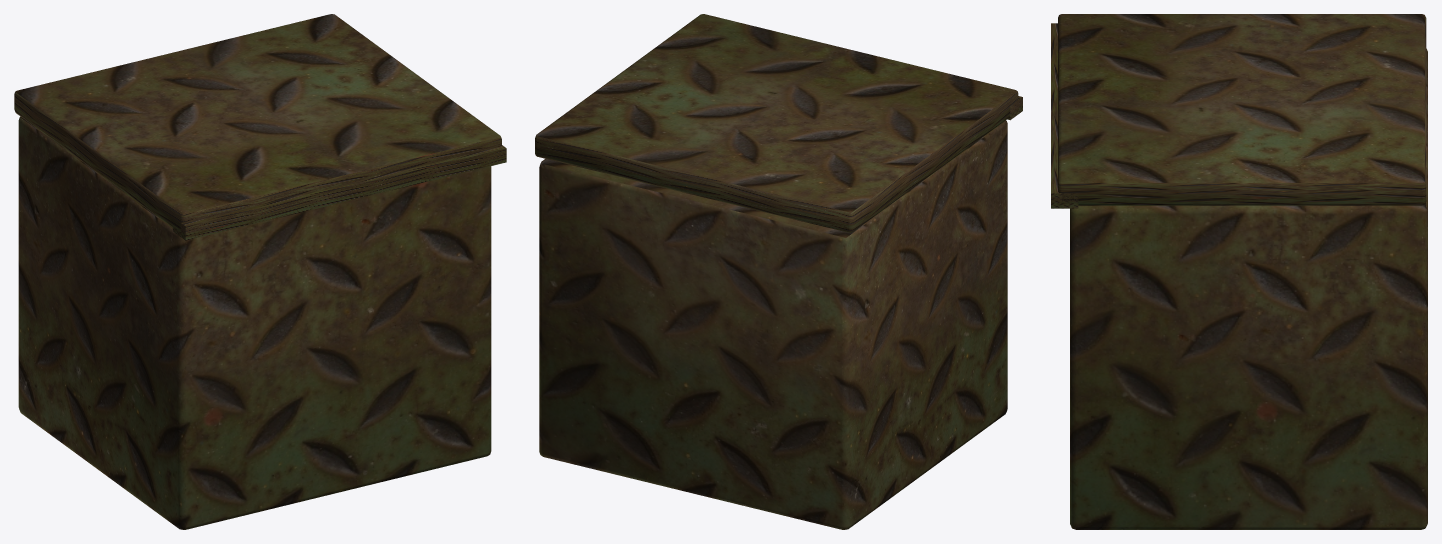
Rendered from dumpster.glb.
The picture shows the model from 3 angles, left to right: view 1: azimuth 30°, elevation 25°; view 2: azimuth 150°, elevation 25°; view 3: azimuth 270°, elevation 25°; orthographic projection. The views are drawn at different scales.
Visible parts, largest first — view 1: body, lid, lip; view 2: body, lid; view 3: body, lid, lip.
Part boxes in pixels (x1,y1,x2,y2): body: [18, 116, 491, 529]; lid: [14, 14, 501, 231]; lip: [173, 145, 506, 240]; body: [539, 120, 1007, 529]; lid: [535, 14, 1018, 232]; body: [1070, 48, 1427, 529]; lid: [1058, 14, 1426, 205]; lip: [1051, 23, 1078, 208].
Size of the model in its own units: 1.18 by 1.14 by 1.1.
2 materials, 2 textured.
